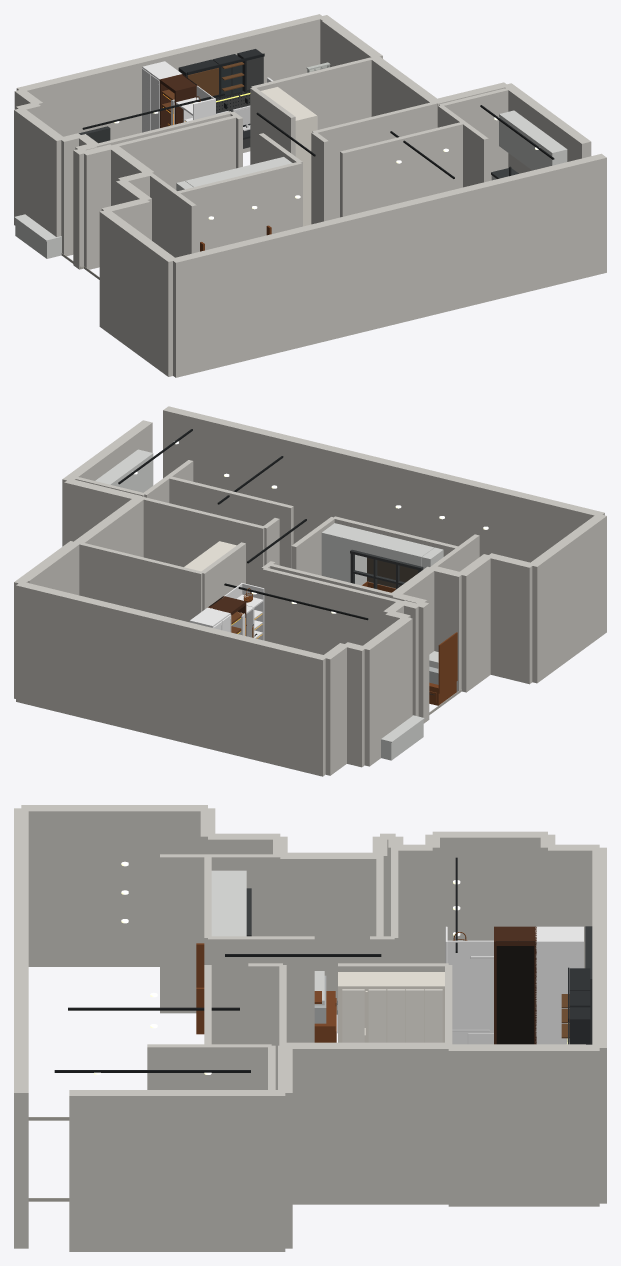
The model's file is house_interior_secondary_cabinets_open_top_v56.glb.
The picture shows the model from 3 angles, top to bottom: view 1: azimuth 30°, elevation 25°; view 2: azimuth 150°, elevation 25°; view 3: azimuth 270°, elevation 25°; orthographic projection. The views are drawn at different scales.
Visible parts, largest first — view 1: WALL_EXT_007, WALL_EXT_001, WALL_EXT_008, WALL_INT_019, WALL_INT_015, WALL_INT_013, WALL_EXT_018, WALL_INT_024, WALL_INT_016, WALL_INT_014, WALL_EXT_013, WALL_EXT_006 (+23 smaller); view 2: WALL_EXT_001, WALL_EXT_007, WALL_EXT_008, WALL_INT_012, WALL_INT_024, WALL_INT_016, WALL_EXT_018, WALL_EXT_009, WALL_INT_019, WALL_EXT_010, WALL_EXT_020, WALL_EXT_005 (+26 smaller); view 3: WALL_EXT_006, WALL_EXT_004, WALL_EXT_002, WALL_EXT_008, WALL_EXT_018, WALL_INT_014, WALL_EXT_012, WALL_INT_005, WALL_EXT_007, WALL_INT_017, FURN_MASTER_WARDROBE_13_WARDROBE_LEFT_CARCASS, WALL_EXT_001 (+33 smaller).
Boxes of the visible parts, <box> form: WALL_EXT_007: <box>171,153,606,377</box>; WALL_EXT_001: <box>16,14,324,152</box>; WALL_EXT_008: <box>99,209,175,376</box>; WALL_INT_019: <box>340,122,463,217</box>; WALL_INT_015: <box>177,162,301,252</box>; WALL_INT_013: <box>87,115,235,189</box>; WALL_EXT_018: <box>14,109,62,236</box>; WALL_INT_024: <box>251,57,375,129</box>; WALL_INT_016: <box>312,102,437,219</box>; WALL_INT_014: <box>111,146,196,257</box>; WALL_EXT_013: <box>81,144,112,269</box>; WALL_EXT_006: <box>504,83,591,173</box>; WALL_EXT_001: <box>16,581,327,776</box>; WALL_EXT_007: <box>163,406,604,562</box>; WALL_EXT_008: <box>528,514,606,683</box>; WALL_INT_012: <box>262,568,403,654</box>; WALL_INT_024: <box>79,543,202,622</box>; WALL_INT_016: <box>140,496,265,587</box>; WALL_EXT_018: <box>360,616,412,766</box>; WALL_EXT_009: <box>486,553,532,684</box>; WALL_INT_019: <box>169,476,293,567</box>; WALL_EXT_010: <box>457,554,490,692</box>; WALL_EXT_020: <box>324,643,348,775</box>; WALL_EXT_005: <box>64,479,142,544</box>; WALL_EXT_006: <box>69,1090,285,1251</box>; WALL_EXT_004: <box>285,1042,448,1204</box>; WALL_EXT_002: <box>448,1044,599,1206</box>; WALL_EXT_008: <box>21,805,207,966</box>; WALL_EXT_018: <box>432,831,547,963</box>; WALL_INT_014: <box>160,854,379,1013</box>; WALL_EXT_012: <box>280,852,379,1014</box>; WALL_INT_005: <box>208,936,314,1044</box>; WALL_EXT_007: <box>14,808,28,1248</box>; WALL_INT_017: <box>147,1044,271,1089</box>; FURN_MASTER_WARDROBE_13_WARDROBE_LEFT_CARCASS: <box>535,926,583,1044</box>; WALL_EXT_001: <box>592,847,606,1203</box>.
Bounding box in the file's own units: 11.22 × 2.83 × 9.66.
